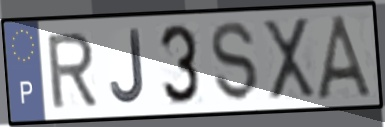3: (157, 21, 204, 109)
A: (313, 12, 379, 101)
J: (108, 27, 148, 107)
R: (44, 29, 100, 111)
S: (209, 20, 261, 105)
X: (259, 15, 319, 104)
